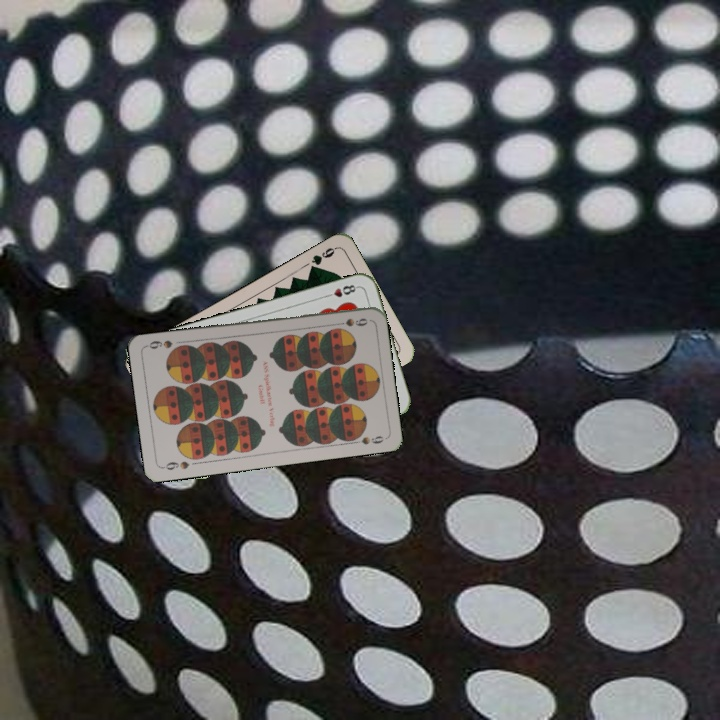G9: (305, 243, 339, 274)
H8: (321, 281, 361, 300)
S9: (330, 314, 370, 329), (159, 457, 191, 472)
